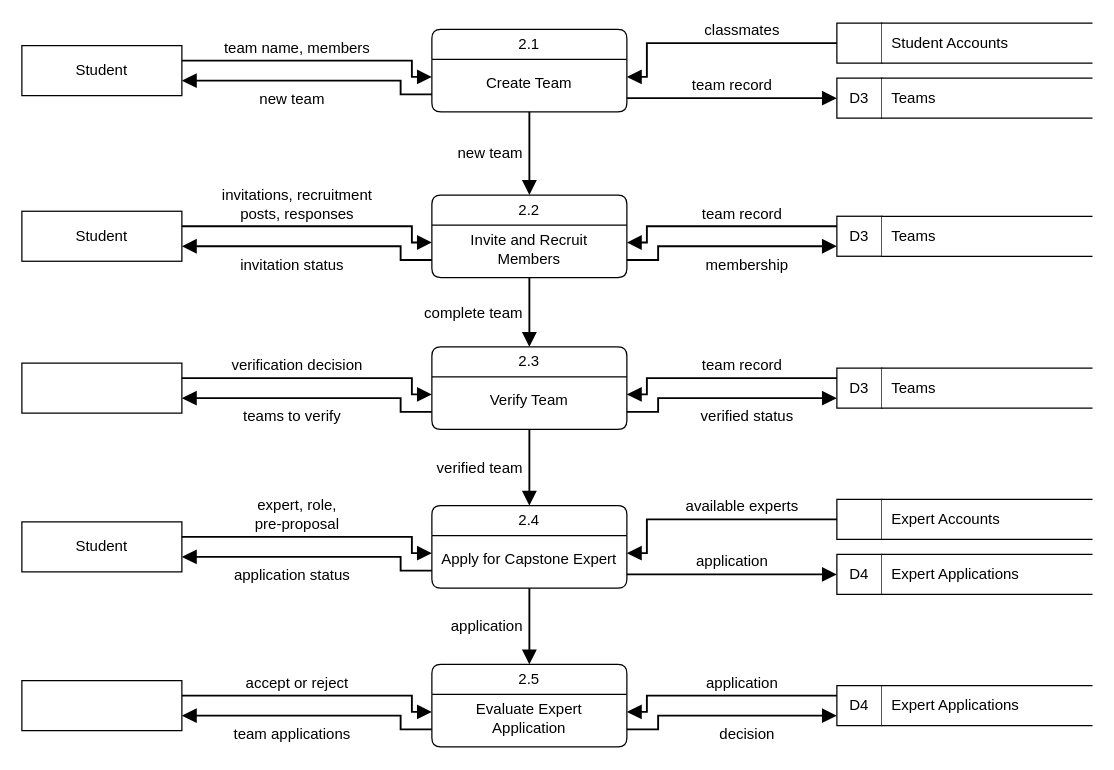
This 1114x770 diagram has some shape labels left out. Each missing label, with the centre of its shape:
CaPSA: point 101,387
Capstone Expert: point 101,705
D1: point 859,42
D2: point 859,518
